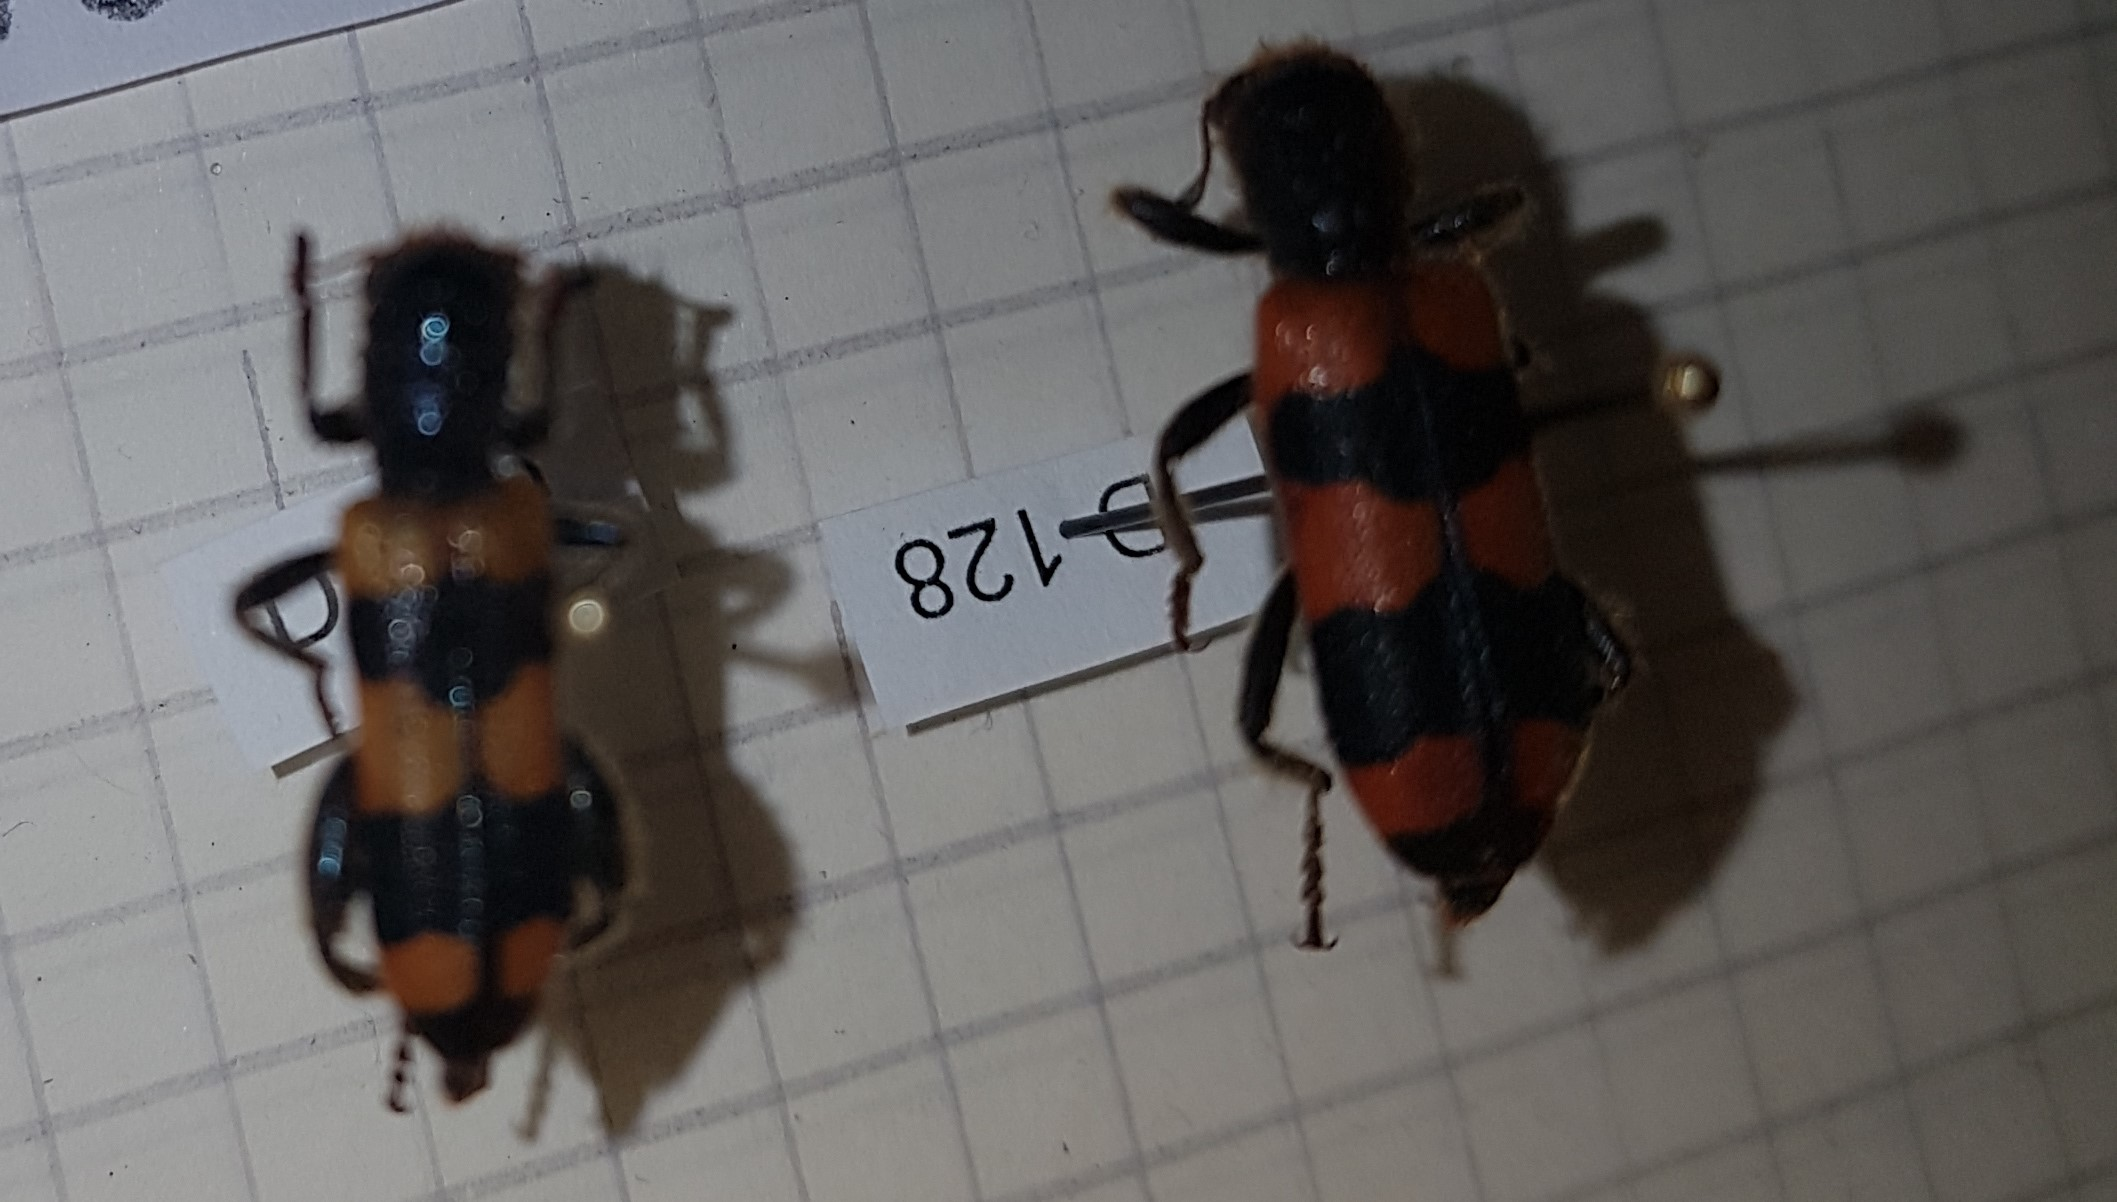trichodes_crabroniformis: (1101, 15, 1655, 1006), (257, 192, 670, 1145)
